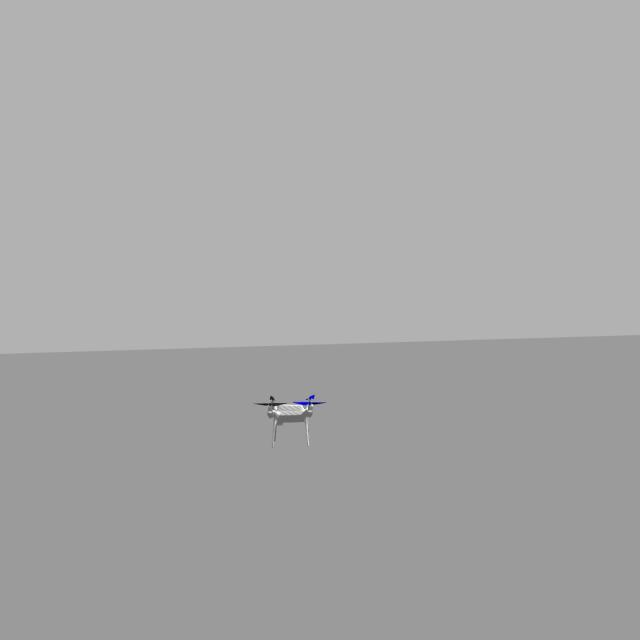Drone: (250, 386, 330, 451)
